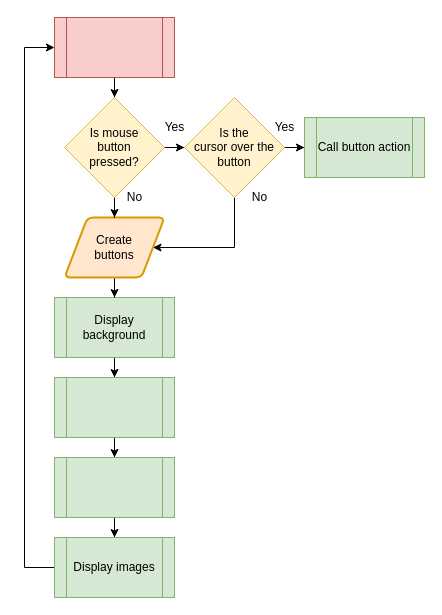
Image size: 442x615. Some labels were removed from this diagram. The centre of each missing label's shape, as x and y in pixels:
Display text: the point at 114,407
Draw buttons: the point at 114,487
Menu screen: the point at 114,47
